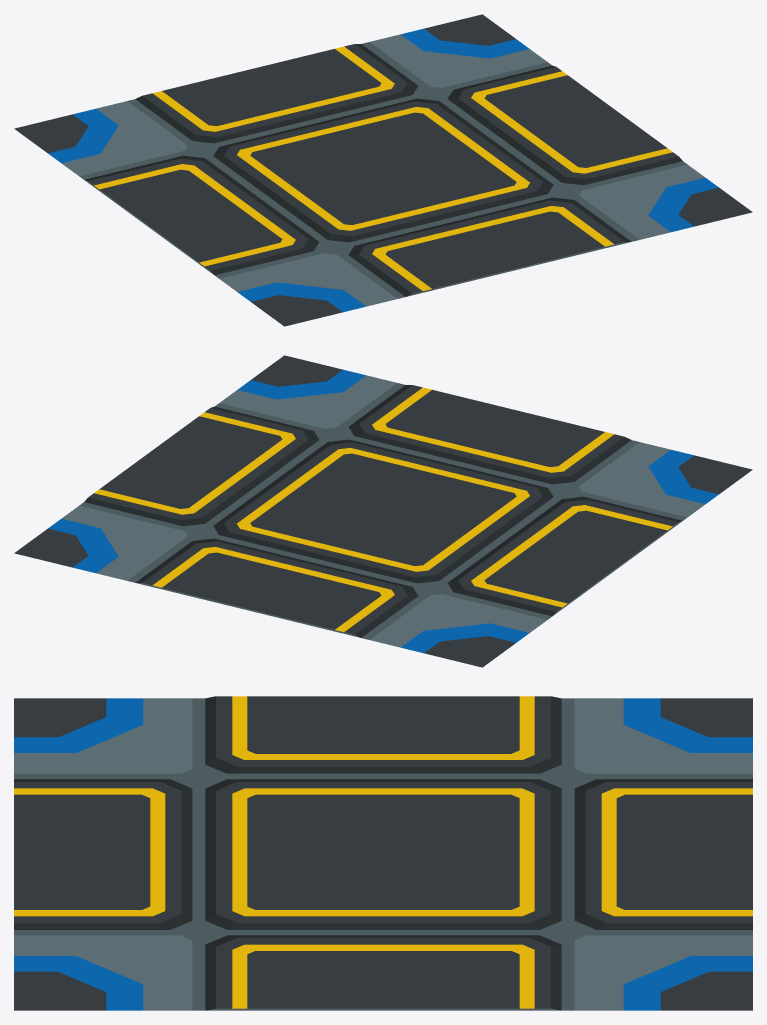
Rendered from Floor_type_C_029.fbx.
The picture shows the model from 3 angles, top to bottom: view 1: azimuth 30°, elevation 25°; view 2: azimuth 150°, elevation 25°; view 3: azimuth 270°, elevation 25°; orthographic projection. The views are drawn at different scales.
Visible parts, largest first — view 1: Floor_type_C_029; view 2: Floor_type_C_029; view 3: Floor_type_C_029.
Part boxes in pixels (<box>): Floor_type_C_029: <box>14,14,752,326</box>; Floor_type_C_029: <box>14,355,752,667</box>; Floor_type_C_029: <box>14,696,752,1010</box>.
Size of the model in its own units: 400 by 400 by 1.34.
